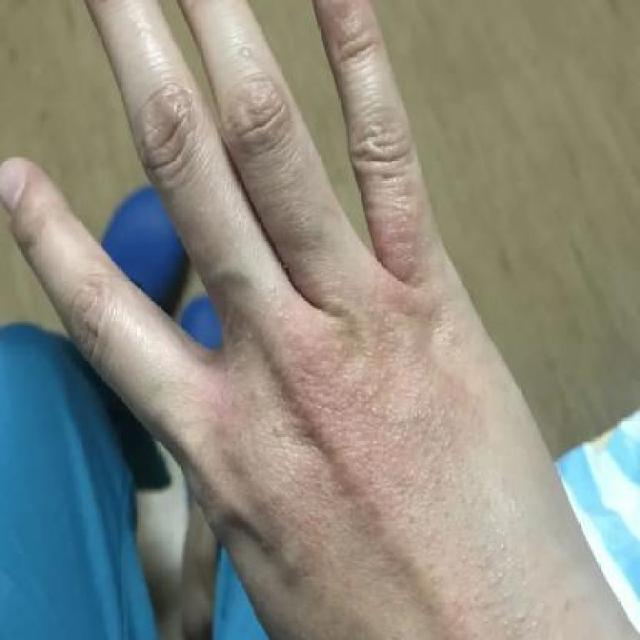hand_noglove: (0, 1, 605, 640)
